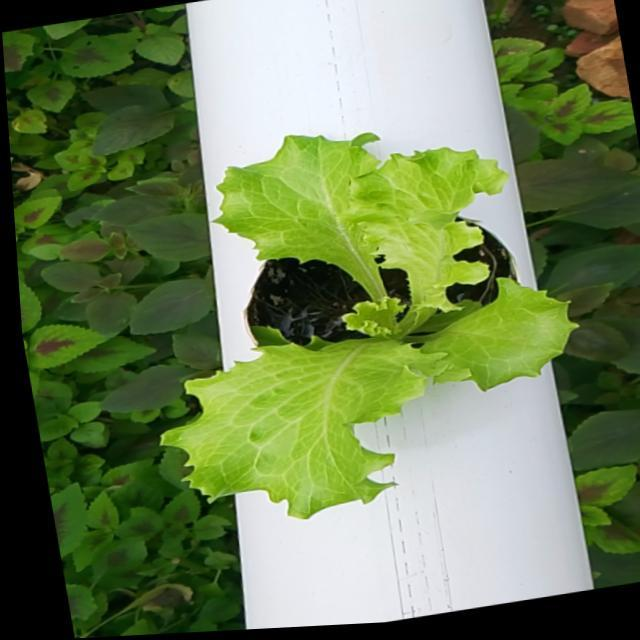Baby: (185, 136, 594, 514)
